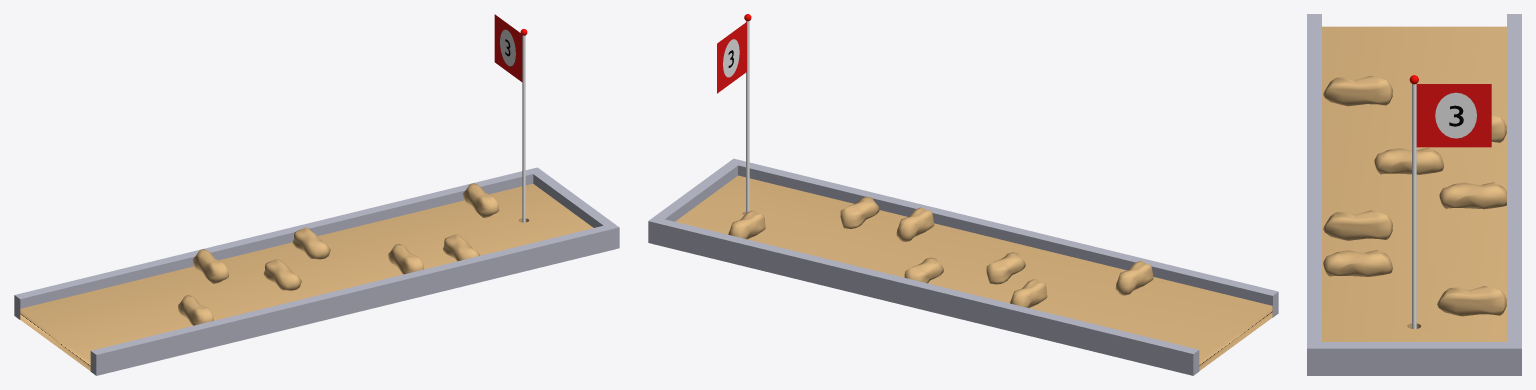
File: bane3.fbx
The picture shows the model from 3 angles, left to right: view 1: azimuth 30°, elevation 25°; view 2: azimuth 150°, elevation 25°; view 3: azimuth 270°, elevation 25°; orthographic projection. The views are drawn at different scales.
Visible parts, largest first — view 1: bane, VÆGGE, VÆGGE.001, VÆGGE.002, Plane.002, forhindring.003, forhindring.006, forhindring.001, forhindring, Cylinder.002, forhindring.005, forhindring.002 (+1 smaller); view 2: bane, VÆGGE.001, VÆGGE, VÆGGE.002, Plane.002, forhindring.002, forhindring.005, forhindring.003, forhindring.004, forhindring.001, forhindring.006, Cylinder.002 (+1 smaller); view 3: bane, VÆGGE.002, VÆGGE, VÆGGE.001, Plane.002, forhindring.005, forhindring.001, forhindring.002, forhindring.004, forhindring, forhindring.003, Circle.002 (+2 smaller).
Part boxes in pixels (x1,y1,x2,y2): bane: (20, 183, 593, 370); VÆGGE: (90, 224, 614, 375); VÆGGE.001: (14, 168, 538, 319); VÆGGE.002: (533, 167, 619, 249); Plane.002: (494, 14, 522, 81); forhindring.003: (263, 258, 301, 290); forhindring.006: (192, 249, 228, 283); forhindring.001: (463, 183, 499, 217); forhindring: (292, 227, 330, 259); Cylinder.002: (522, 35, 525, 222); forhindring.005: (178, 295, 213, 325); forhindring.002: (388, 243, 424, 274); bane: (675, 175, 1272, 370); VÆGGE.001: (652, 218, 1199, 375); VÆGGE: (733, 159, 1278, 317); VÆGGE.002: (648, 158, 737, 243); Plane.002: (717, 22, 746, 93); forhindring.002: (896, 207, 934, 241); forhindring.005: (1115, 261, 1153, 295); forhindring.003: (986, 252, 1025, 284); forhindring.004: (840, 196, 879, 228); forhindring.001: (728, 210, 765, 239); forhindring.006: (1010, 279, 1047, 307); Cylinder.002: (746, 21, 749, 212); bane: (1322, 26, 1506, 341); VÆGGE.002: (1307, 342, 1521, 375); VÆGGE: (1307, 14, 1321, 345); VÆGGE.001: (1507, 14, 1521, 345); Plane.002: (1416, 84, 1491, 147); forhindring.005: (1323, 76, 1392, 106); forhindring.001: (1437, 286, 1506, 316); forhindring.002: (1323, 210, 1392, 240); forhindring.004: (1323, 250, 1392, 276); forhindring: (1439, 182, 1506, 209); forhindring.003: (1374, 147, 1444, 174); Circle.002: (1435, 92, 1476, 138).
Size of the model in its own units: 341 by 127 by 92.48.
